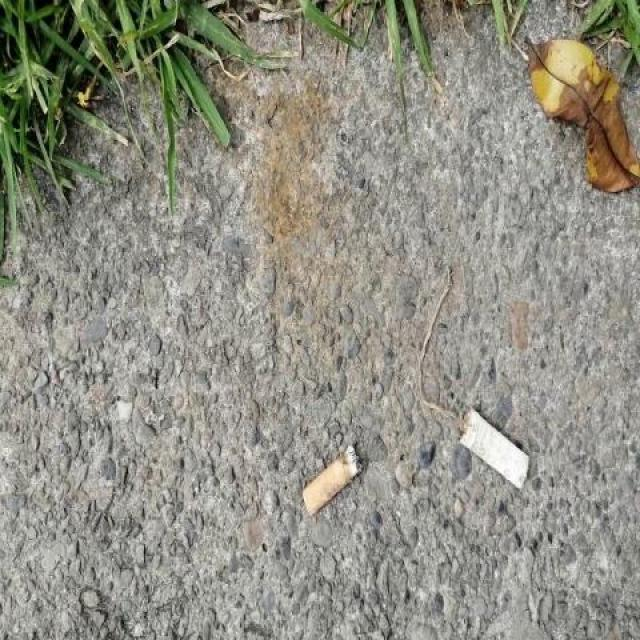non-organic waste: (456, 404, 535, 492), (300, 443, 368, 520)
